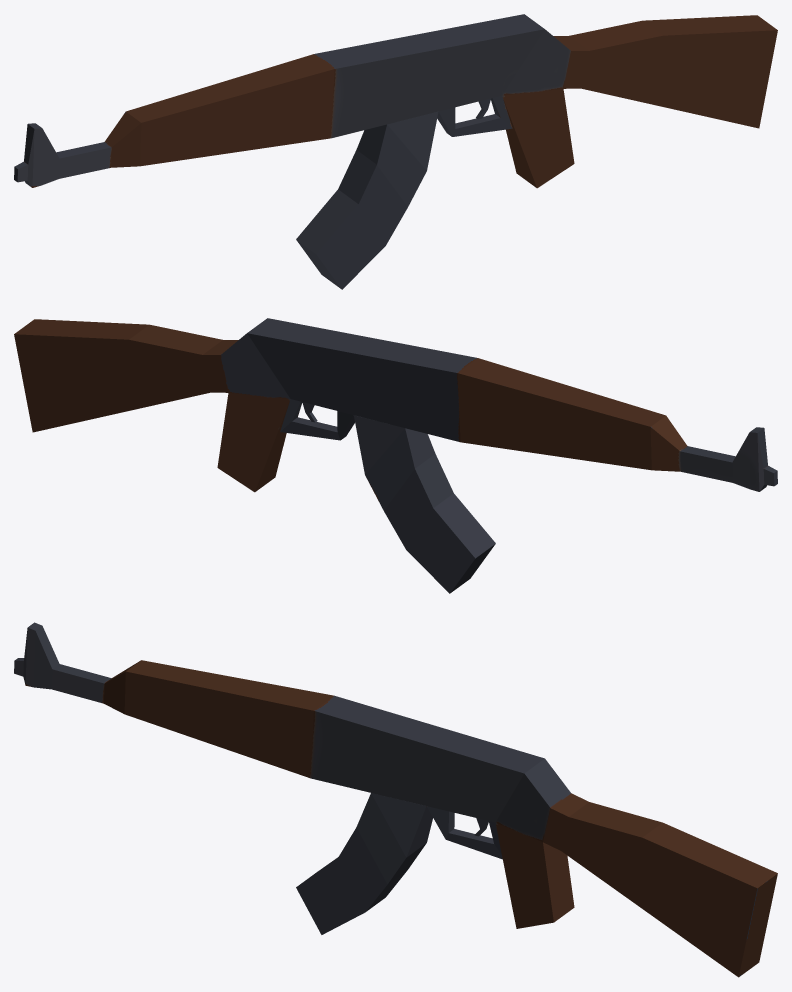
File: Rifle.fbx
The picture shows the model from 3 angles, top to bottom: view 1: azimuth 30°, elevation 25°; view 2: azimuth 150°, elevation 25°; view 3: azimuth 330°, elevation 25°; orthographic projection.
Parts seen in each view (by area): view 1: Rifle; view 2: Rifle; view 3: Rifle.
Part boxes in pixels (left/top/right/bottom): Rifle: left=14, top=14, right=777, bottom=289; Rifle: left=14, top=318, right=777, bottom=593; Rifle: left=14, top=622, right=777, bottom=977.
Size of the model in its own units: 62.29 by 383 by 1313.
Materials: 1 (1 with a texture image).
